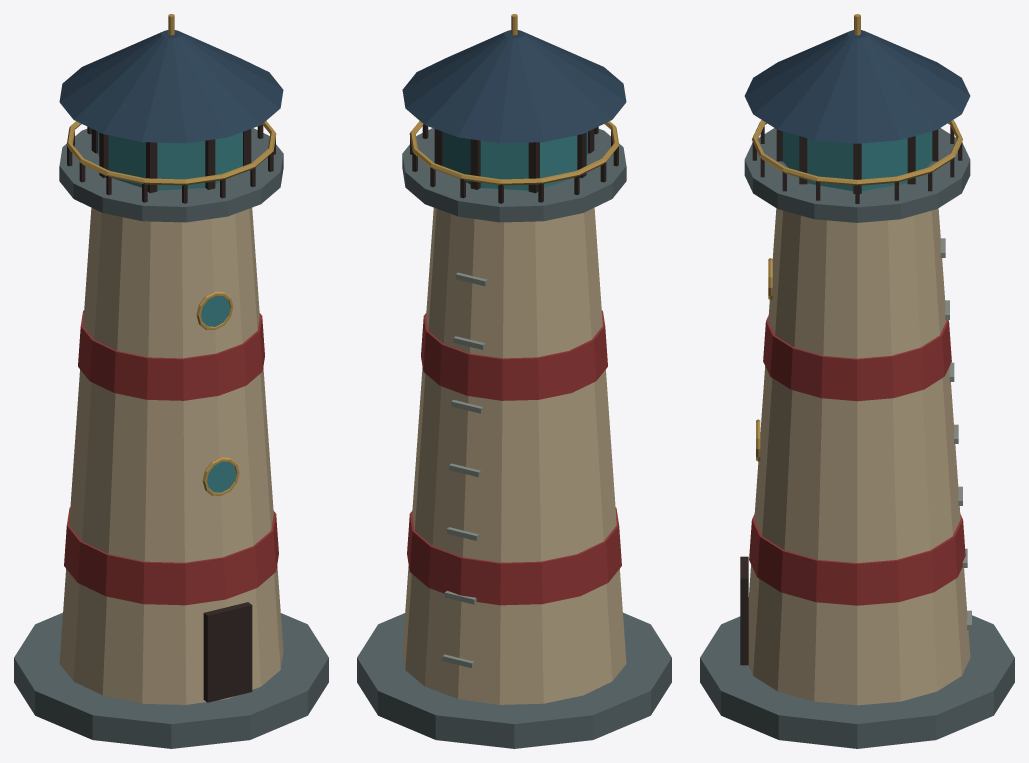
The model's file is PirateCove_Lighthouse_Showcase.glb.
3 renders of one model, left to right at view 1: azimuth 30°, elevation 25°; view 2: azimuth 150°, elevation 25°; view 3: azimuth 270°, elevation 25°, orthographic.
Visible parts, largest first — view 1: PirateCove_Lighthouse_Showcase; view 2: PirateCove_Lighthouse_Showcase; view 3: PirateCove_Lighthouse_Showcase.
Part boxes in pixels (x1=…): PirateCove_Lighthouse_Showcase: x1=14, y1=14, x2=328, y2=748; PirateCove_Lighthouse_Showcase: x1=357, y1=14, x2=671, y2=748; PirateCove_Lighthouse_Showcase: x1=700, y1=14, x2=1014, y2=748.
Size of the model in its own units: 4.6 by 10.75 by 4.6.
